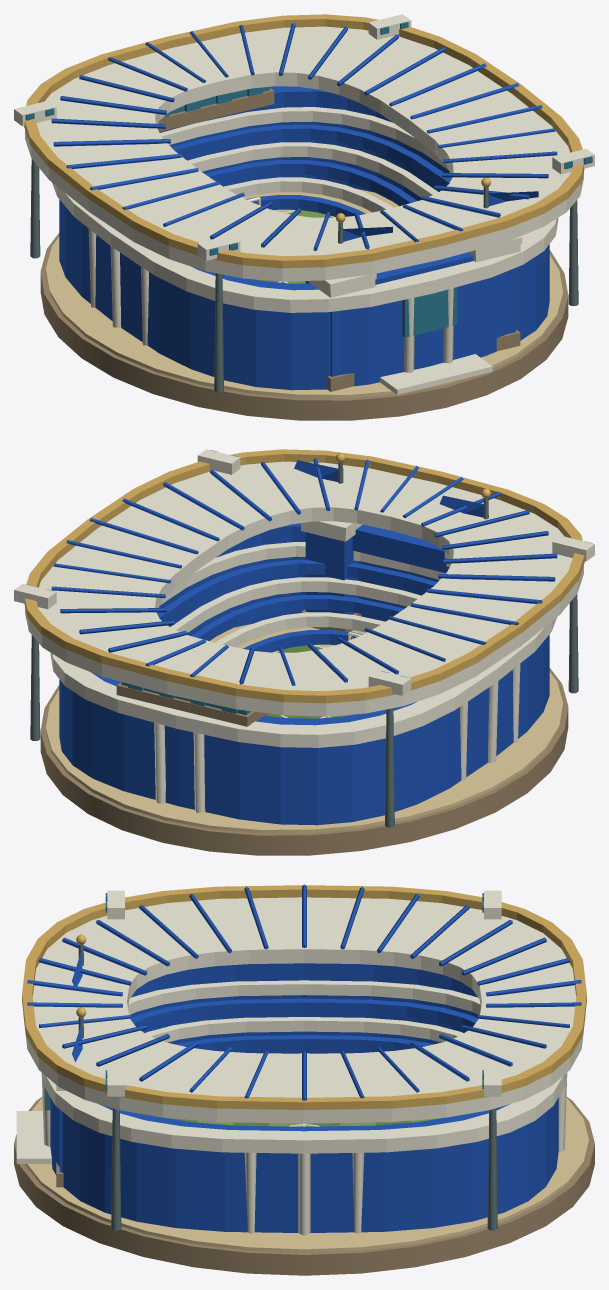
The model's file is main-stadium-lv5.glb.
3 renders of one model, top to bottom at view 1: azimuth 30°, elevation 25°; view 2: azimuth 150°, elevation 25°; view 3: azimuth 270°, elevation 25°, orthographic. The views are drawn at different scales.
Parts seen in each view (by area): view 1: canopy_white, stadium_shell_royal, crown_gold, foundation_stoneDark, roof_ribs_royal, upper_concourse_white, seating_white, seating_royal, foundation_sand, facade_ribs_white, lighting_iron, lighting_white (+10 smaller); view 2: canopy_white, stadium_shell_royal, crown_gold, foundation_stoneDark, roof_ribs_royal, upper_concourse_white, foundation_sand, seating_white, seating_royal, facade_ribs_white, lighting_iron, lighting_white (+4 smaller); view 3: canopy_white, stadium_shell_royal, crown_gold, foundation_stoneDark, upper_concourse_white, roof_ribs_royal, seating_white, foundation_sand, seating_royal, facade_ribs_white, lighting_iron, lighting_white (+1 smaller).
Part boxes in pixels (box(x1,y1,x2,y2)): canopy_white: box(25, 26, 583, 281); stadium_shell_royal: box(59, 86, 549, 390); crown_gold: box(24, 14, 584, 268); foundation_stoneDark: box(40, 233, 568, 420); roof_ribs_royal: box(51, 23, 557, 250); upper_concourse_white: box(52, 182, 558, 312); seating_white: box(160, 107, 448, 212); seating_royal: box(171, 124, 451, 216); foundation_sand: box(45, 188, 563, 398); facade_ribs_white: box(88, 229, 453, 372); lighting_iron: box(30, 159, 578, 392); lighting_white: box(14, 14, 594, 260); canopy_white: box(25, 461, 583, 716); stadium_shell_royal: box(59, 523, 549, 825); crown_gold: box(24, 449, 584, 703); foundation_stoneDark: box(40, 668, 568, 855); roof_ribs_royal: box(51, 458, 557, 685); upper_concourse_white: box(50, 617, 556, 747); foundation_sand: box(45, 623, 563, 833); seating_white: box(160, 542, 445, 647); seating_royal: box(157, 559, 437, 652); facade_ribs_white: box(154, 664, 520, 812); lighting_iron: box(30, 594, 578, 827); lighting_white: box(14, 449, 594, 695); canopy_white: box(23, 897, 585, 1123); stadium_shell_royal: box(50, 963, 558, 1232); crown_gold: box(22, 885, 586, 1109); foundation_stoneDark: box(14, 1097, 594, 1275); upper_concourse_white: box(43, 1074, 565, 1153); roof_ribs_royal: box(27, 884, 581, 1100); seating_white: box(128, 980, 480, 1053); foundation_sand: box(25, 1098, 589, 1252); seating_royal: box(130, 998, 478, 1051); facade_ribs_white: box(41, 1073, 567, 1235); lighting_iron: box(111, 1108, 497, 1230); lighting_white: box(107, 890, 501, 1096).
Size of the model in its own units: 0.9074 by 0.3662 by 1.
